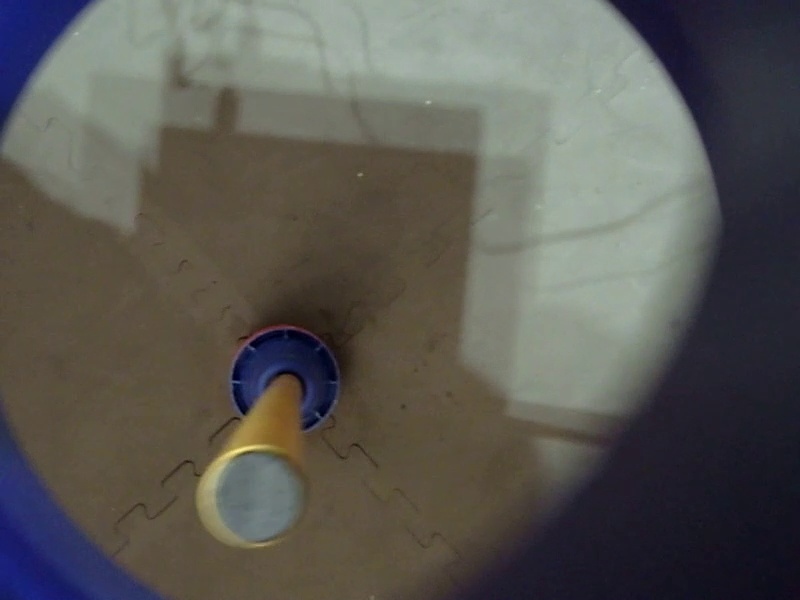tip: (175, 87, 287, 199)
